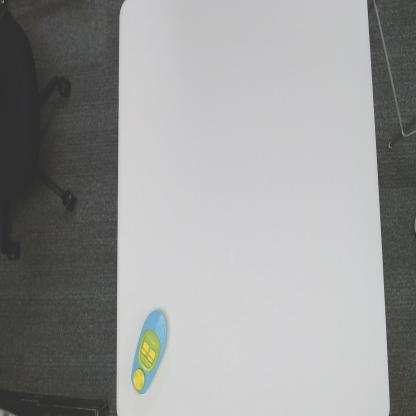Boat: (128, 306, 169, 402)
